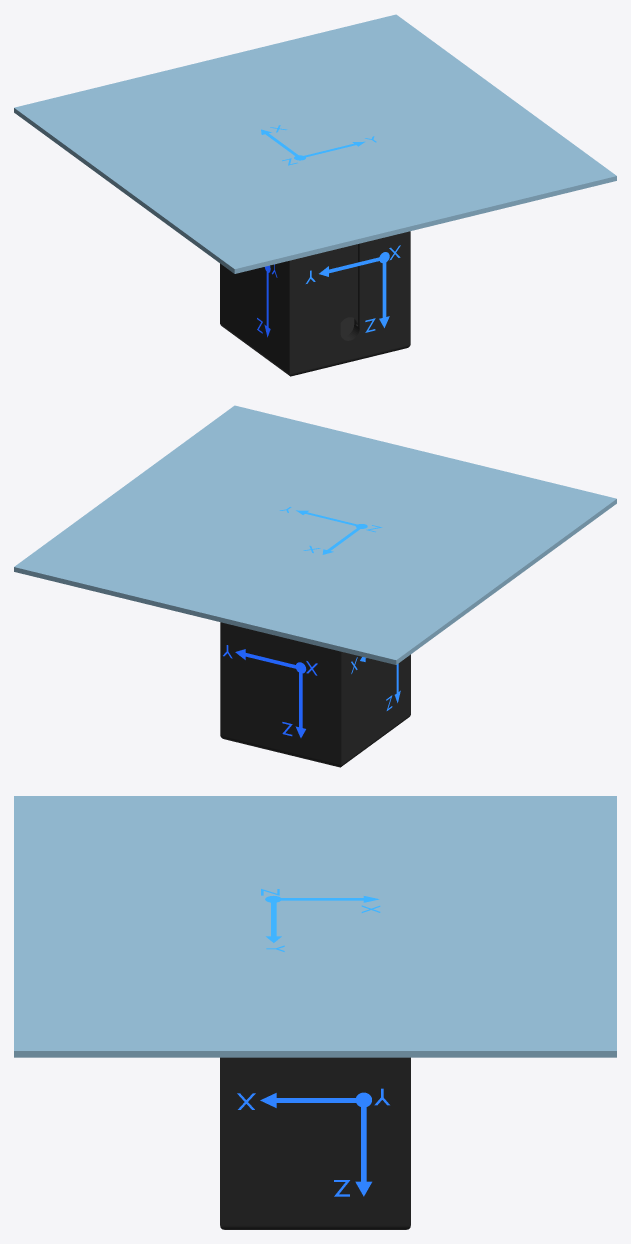
Rendered from acc_model2.glb.
3 renders of one model, top to bottom at view 1: azimuth 30°, elevation 25°; view 2: azimuth 150°, elevation 25°; view 3: azimuth 270°, elevation 25°, orthographic. The views are drawn at different scales.
Parts seen in each view (by area): view 1: Cube, IIS3DWB MINI ENCLOSURE_V5, IIS3DWB MINI ENCLOSURE SLOT V2, Circle.003; view 2: Cube, IIS3DWB MINI ENCLOSURE_V5, Circle.001; view 3: Cube, IIS3DWB MINI ENCLOSURE_V5, Circle.002, Circle.005.
Part boxes in pixels (x1,y1,x2,y2): Cube: [14, 14, 616, 273]; IIS3DWB MINI ENCLOSURE_V5: [220, 231, 410, 376]; IIS3DWB MINI ENCLOSURE SLOT V2: [340, 244, 357, 324]; Circle.003: [319, 252, 389, 327]; Cube: [14, 405, 616, 664]; IIS3DWB MINI ENCLOSURE_V5: [220, 622, 410, 767]; Circle.001: [235, 649, 306, 737]; Cube: [14, 796, 616, 1057]; IIS3DWB MINI ENCLOSURE_V5: [220, 1057, 410, 1229]; Circle.002: [260, 1092, 371, 1196]; Circle.005: [265, 895, 379, 942].
Size of the model in its own units: 119 by 60.77 by 119.
